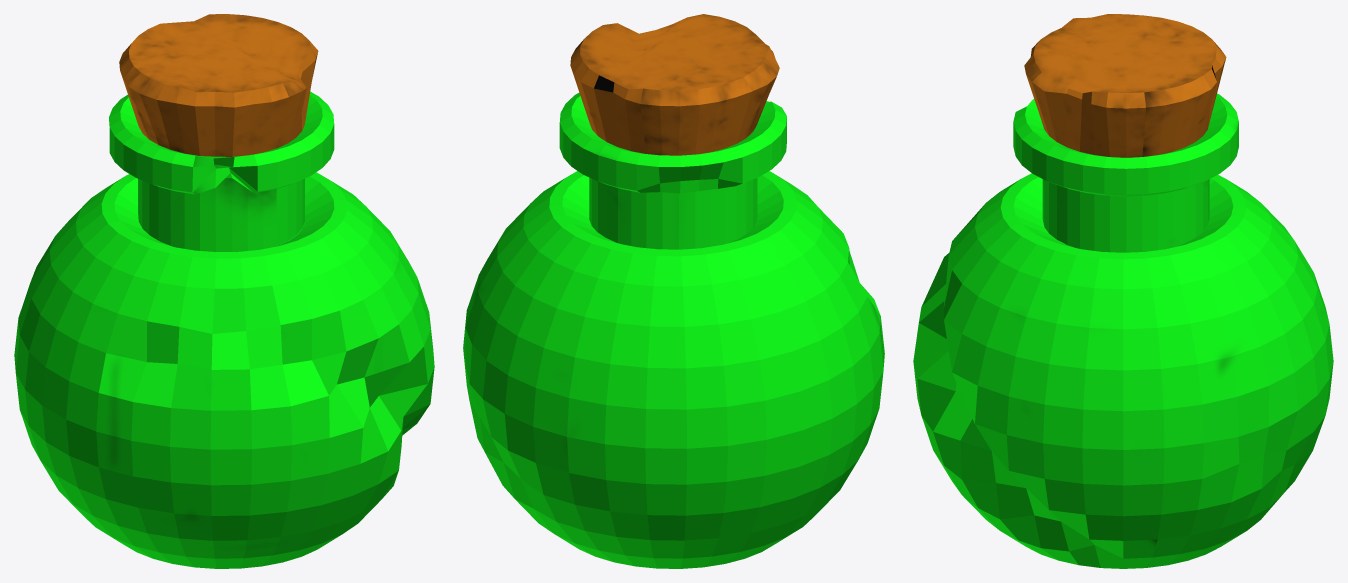
File: Potion.fbx
3 renders of one model, left to right at view 1: azimuth 30°, elevation 25°; view 2: azimuth 150°, elevation 25°; view 3: azimuth 270°, elevation 25°, orthographic.
Parts seen in each view (by area): view 1: Sphere; view 2: Sphere; view 3: Sphere.
Part boxes in pixels (x1,y1,x2,y2): Sphere: (14,14,434,568); Sphere: (463,14,884,568); Sphere: (913,14,1333,568).
Bounding box in the file's own units: 200 × 247 × 200.
Materials: 1 (1 with a texture image).
